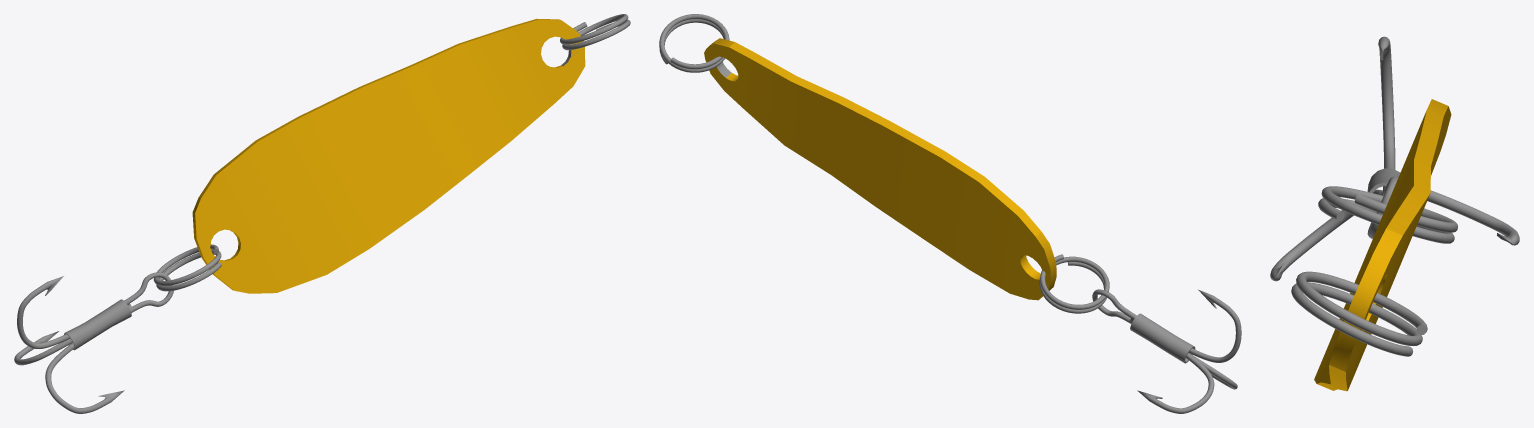
The model's file is Spinner Lure.glb.
3 renders of one model, left to right at view 1: azimuth 30°, elevation 25°; view 2: azimuth 150°, elevation 25°; view 3: azimuth 270°, elevation 25°, orthographic. The views are drawn at different scales.
Visible parts, largest first — view 1: Box002_lure_0.001, Box002_lure_0; view 2: Box002_lure_0.001, Box002_lure_0; view 3: Box002_lure_0, Box002_lure_0.001.
Part boxes in pixels (left/top/right/bottom): Box002_lure_0.001: left=192, top=19, right=585, bottom=293; Box002_lure_0: left=14, top=14, right=630, bottom=413; Box002_lure_0.001: left=704, top=38, right=1056, bottom=300; Box002_lure_0: left=659, top=14, right=1241, bottom=413; Box002_lure_0: left=1270, top=36, right=1519, bottom=356; Box002_lure_0.001: left=1314, top=99, right=1451, bottom=391.
Size of the model in its own units: 1.27 by 0.5187 by 0.2355.
